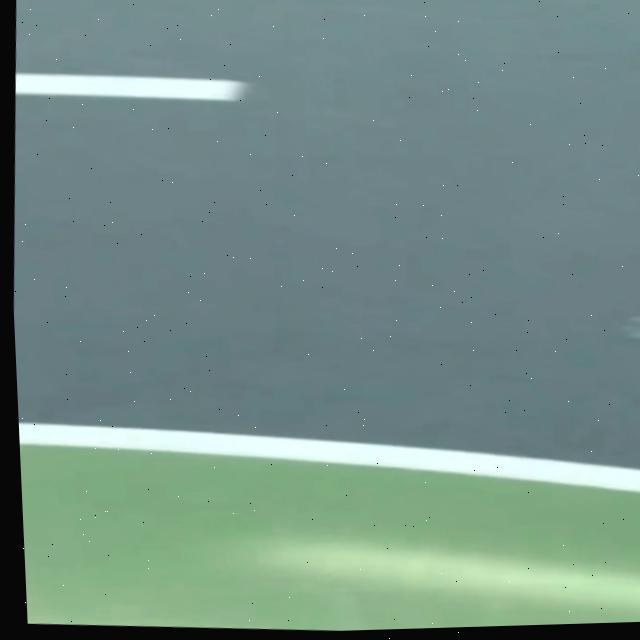center: (16, 72, 248, 100)
right: (19, 422, 640, 492)
